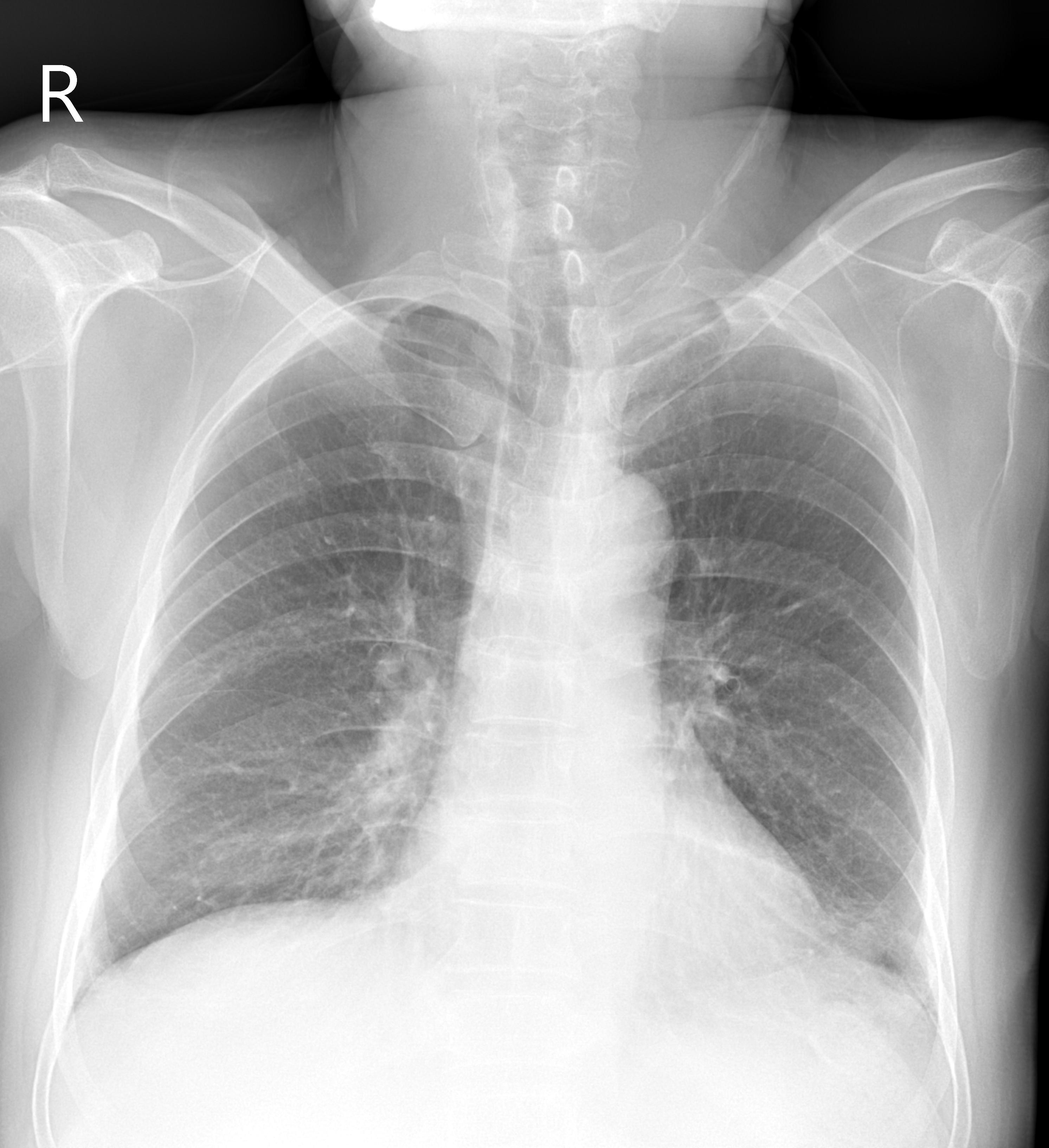Aortic enlargement: (544, 460, 679, 606)
Cardiomegaly: (380, 812, 836, 972)
Pleural thickening: (613, 295, 720, 346)
